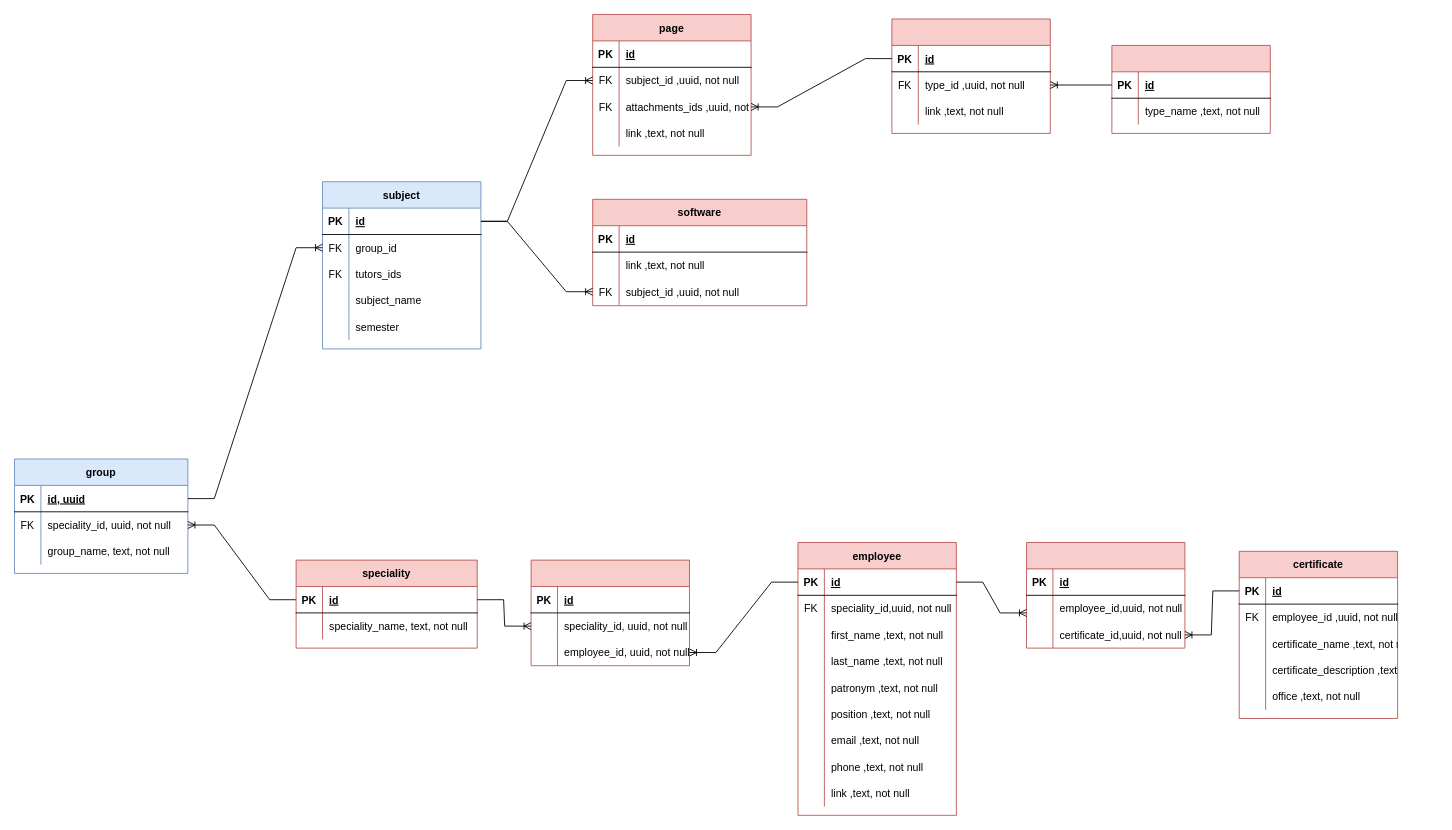
The diagram is 1452 pixels wide and 830 high, and some of its shapes have lost their labels. The box of each missing label's shape, as (x1, y1, x2, y2) in pixels:
attachment: (891, 18, 1050, 133)
attachment_type: (1111, 45, 1270, 133)
employee_сertificate: (1026, 542, 1185, 648)
speciality_employee: (530, 559, 689, 666)
